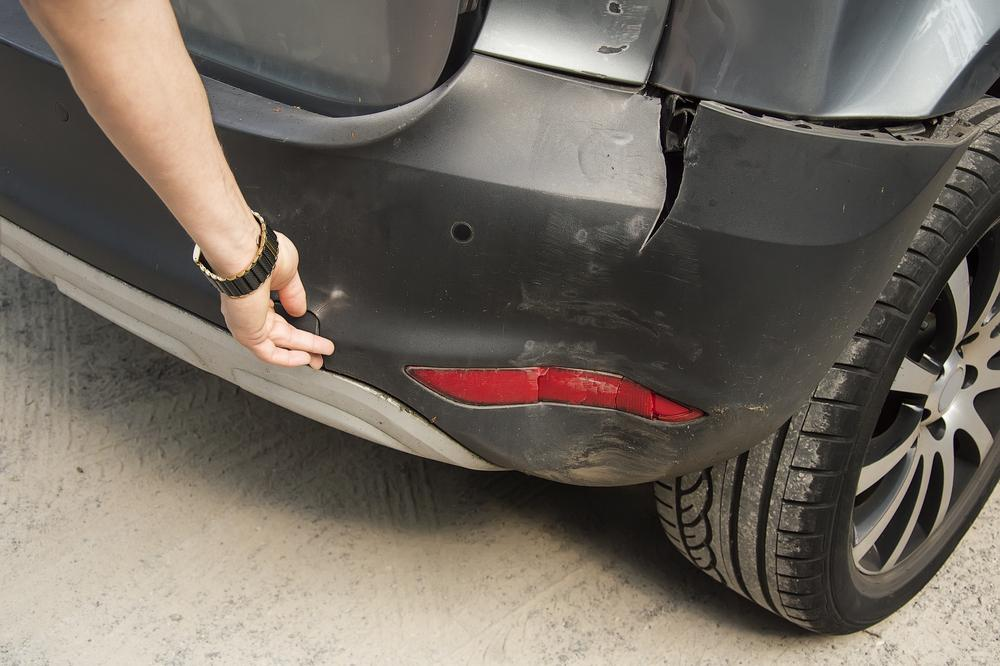crack: (636, 101, 702, 255)
dent: (521, 229, 697, 482)
scratch: (598, 0, 647, 59)
